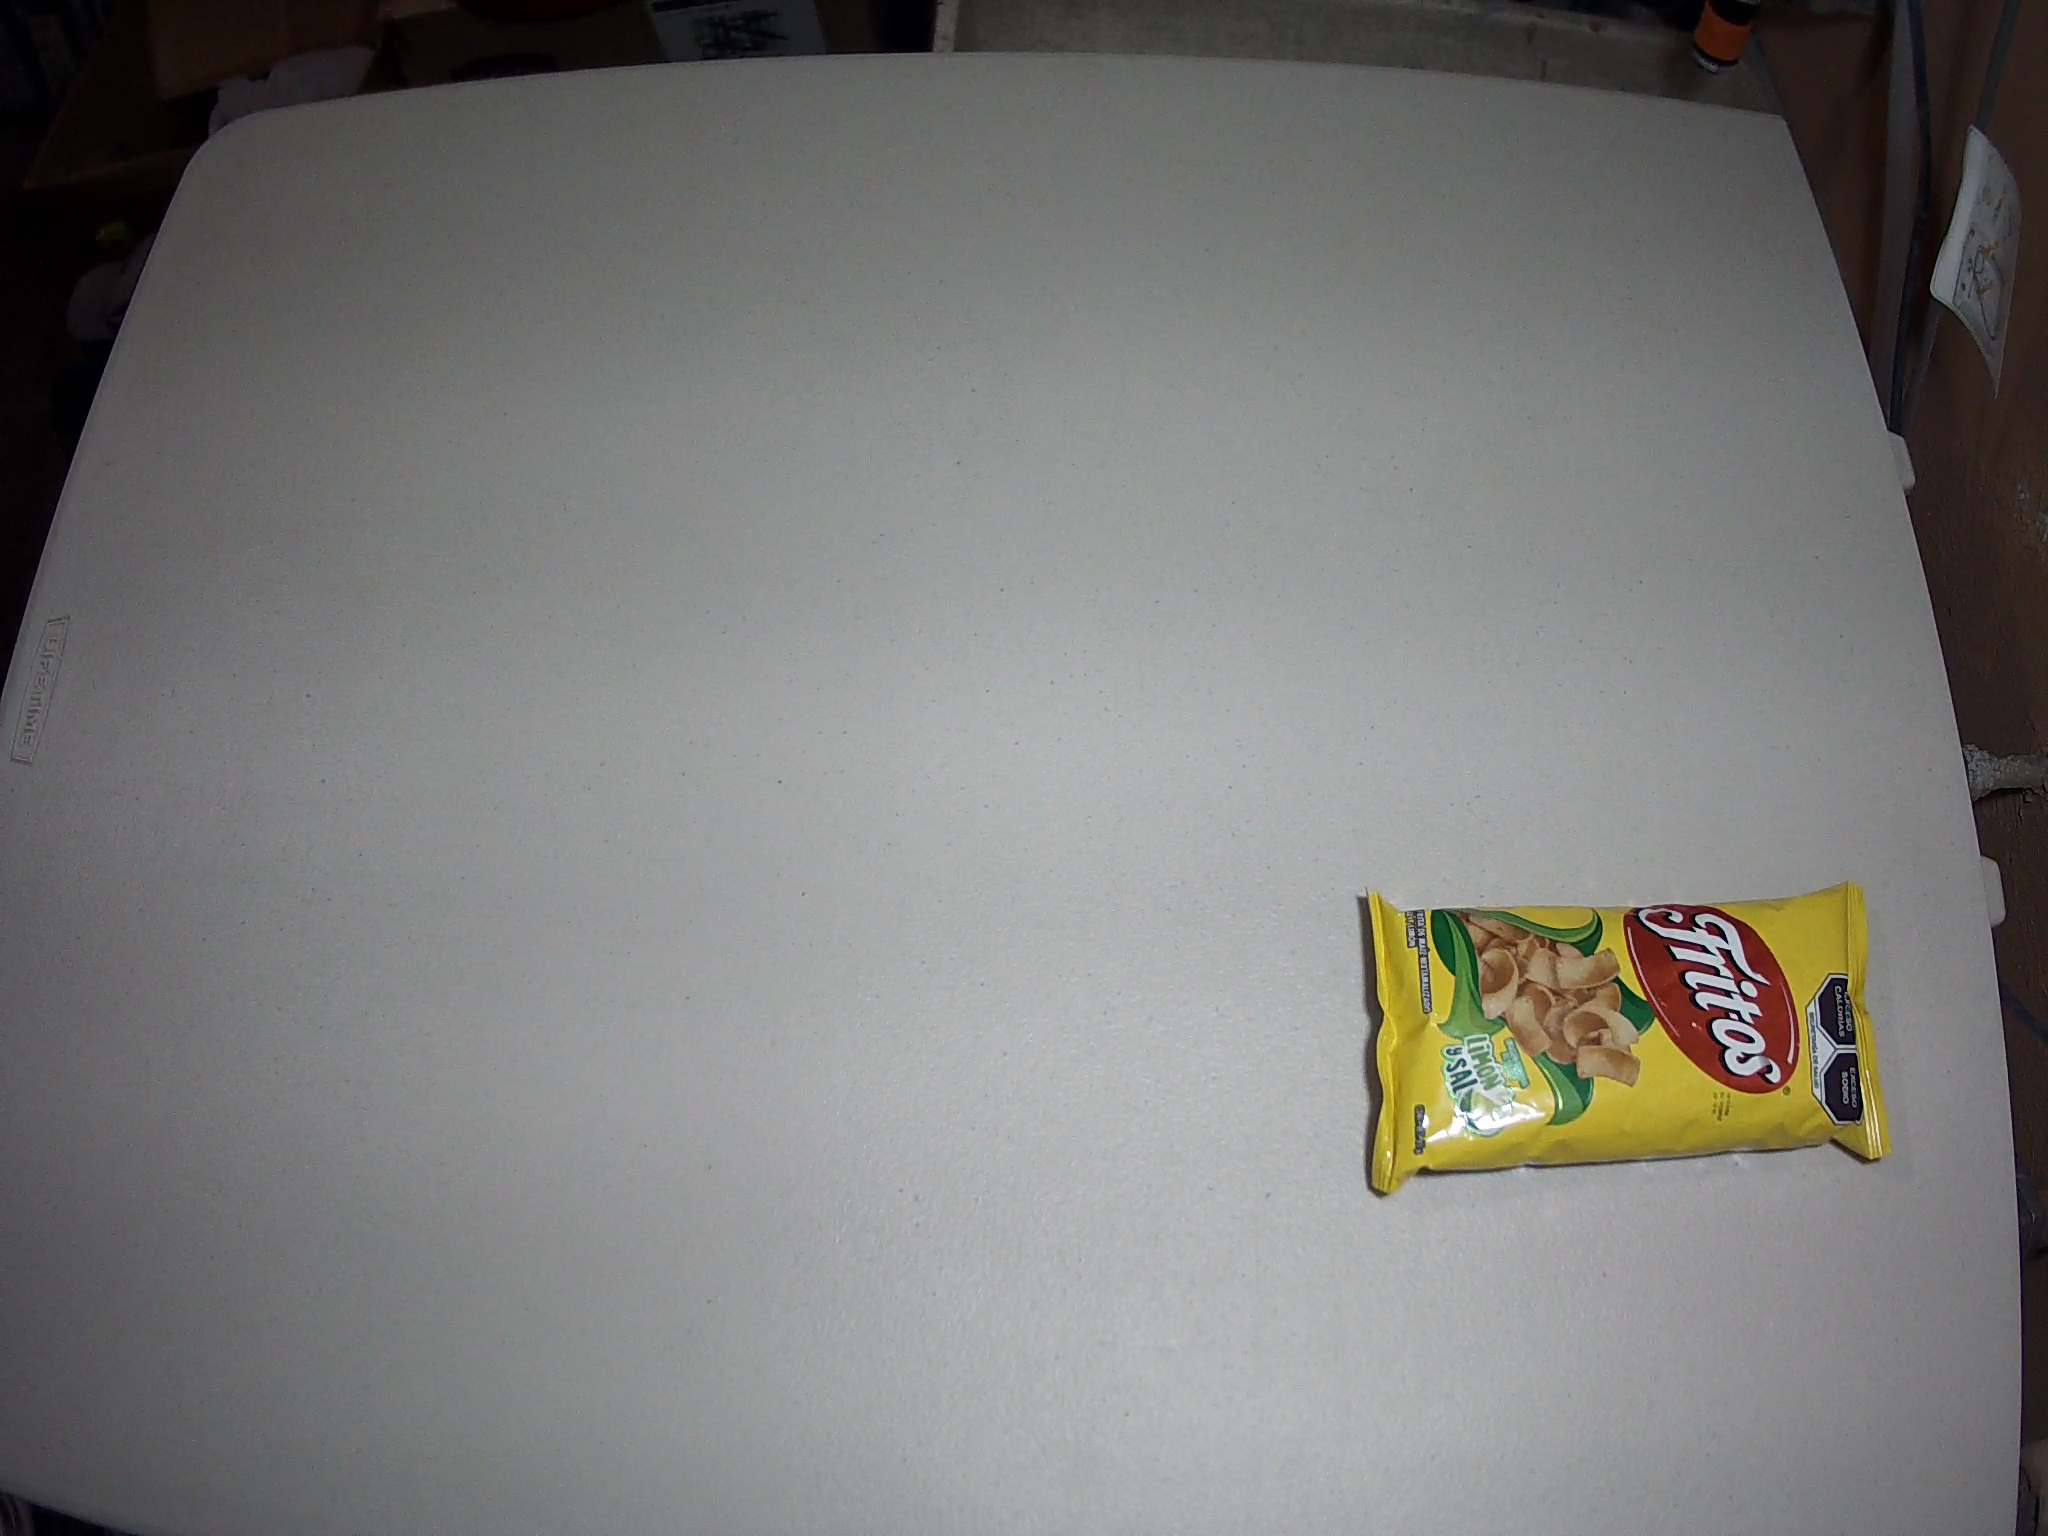FritosSalLimon_65_F: (1356, 884, 1888, 1199)
